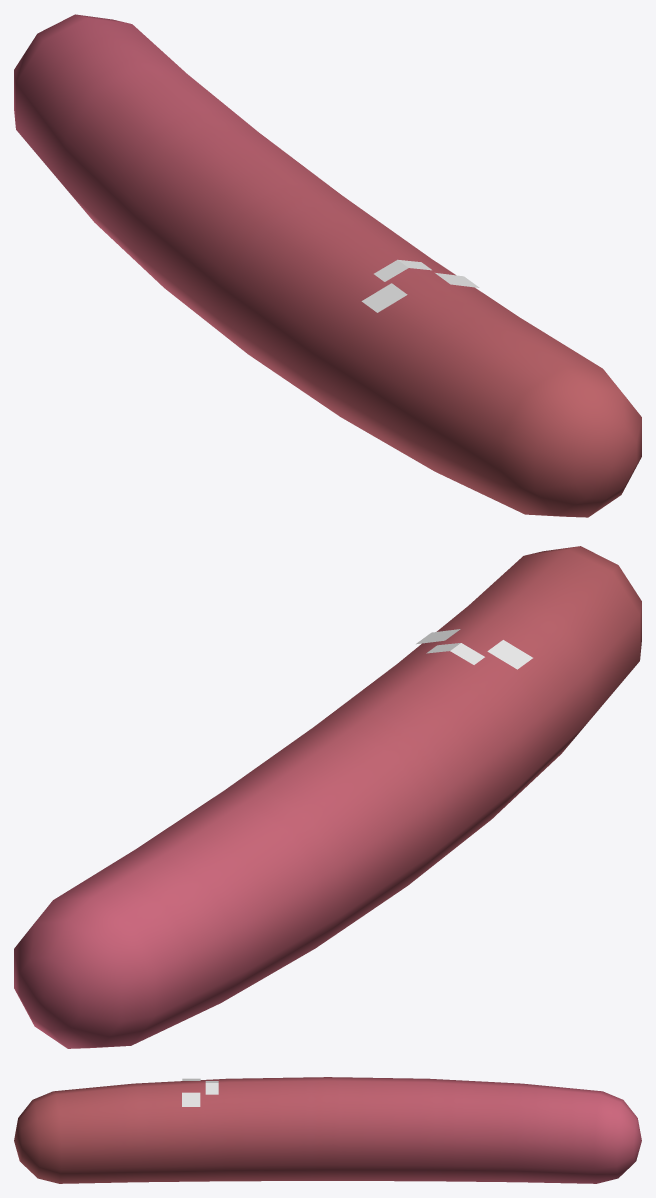
File: sasuage_long_smile.fbx
The picture shows the model from 3 angles, top to bottom: view 1: azimuth 30°, elevation 25°; view 2: azimuth 150°, elevation 25°; view 3: azimuth 270°, elevation 25°; orthographic projection. The views are drawn at different scales.
Parts seen in each view (by area): view 1: sasuage_long_smile; view 2: sasuage_long_smile; view 3: sasuage_long_smile.
Part boxes in pixels (<box>): sasuage_long_smile: <box>14,14,641,517</box>; sasuage_long_smile: <box>14,546,641,1048</box>; sasuage_long_smile: <box>14,1077,641,1183</box>.
Bounding box in the file's own units: 29.62 × 27.27 × 162.
Materials: 2 (1 with a texture image).
